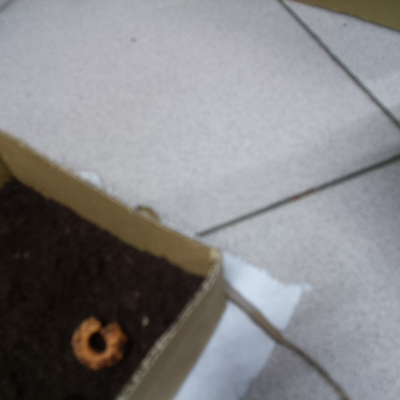eggs: (66, 311, 130, 376)
